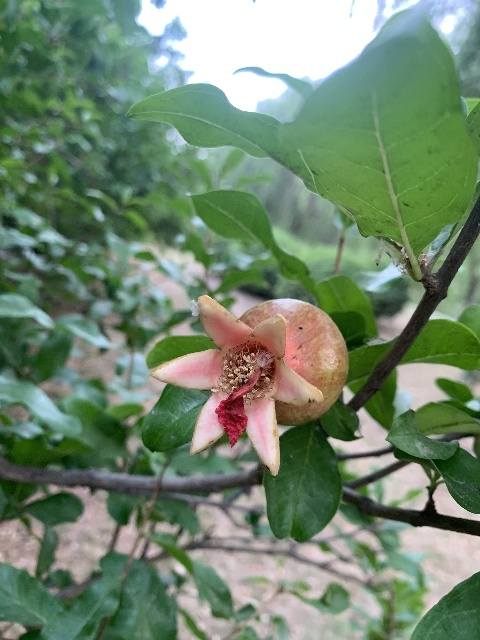early-fruit: (149, 293, 349, 475)
